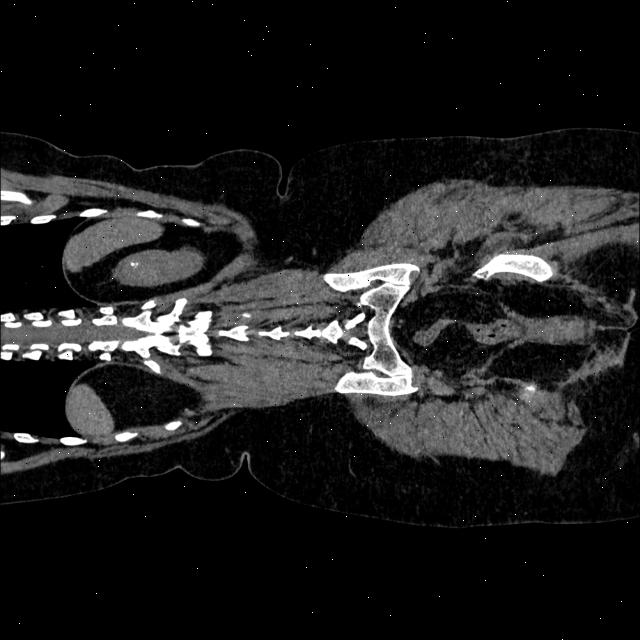kidneystone: (130, 261, 139, 268)
